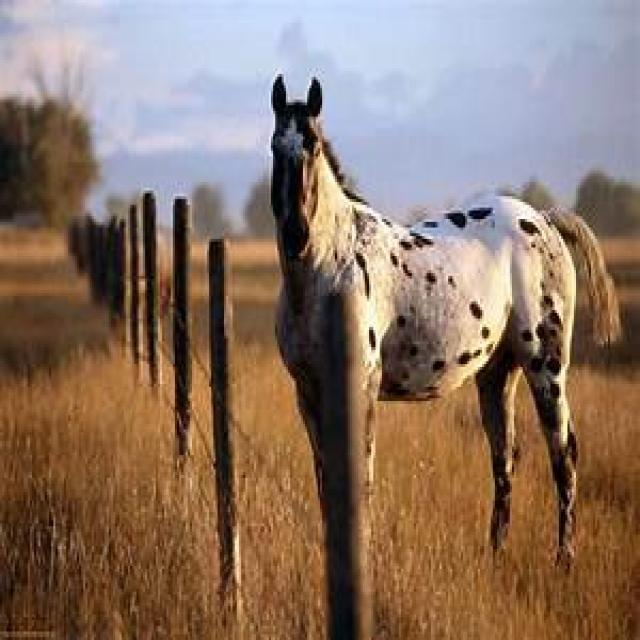horse: (271, 77, 619, 638)
